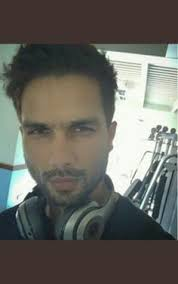Indian_Male: (22, 67, 117, 199)
